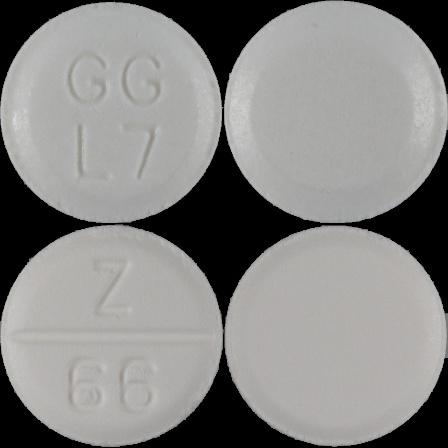66267-030: (0, 0, 224, 224)
